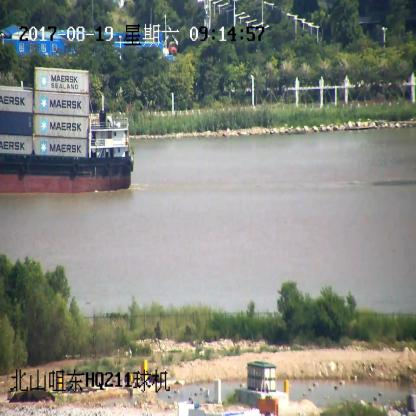Container Ship: (0, 64, 136, 192)
